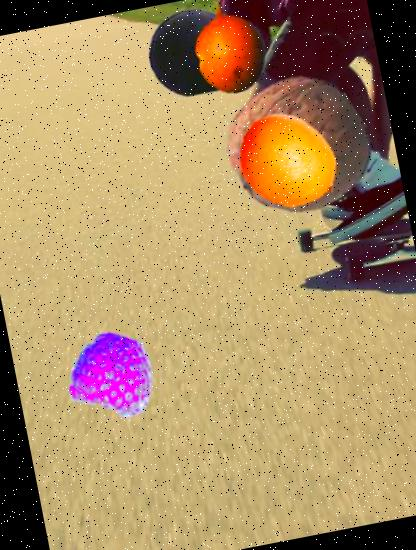Granadilla: (175, 0, 285, 101)
Grape: (140, 0, 248, 105)
Lemon: (228, 102, 351, 224)
Raspberry: (63, 324, 164, 424)
Walnut: (216, 64, 379, 228)
